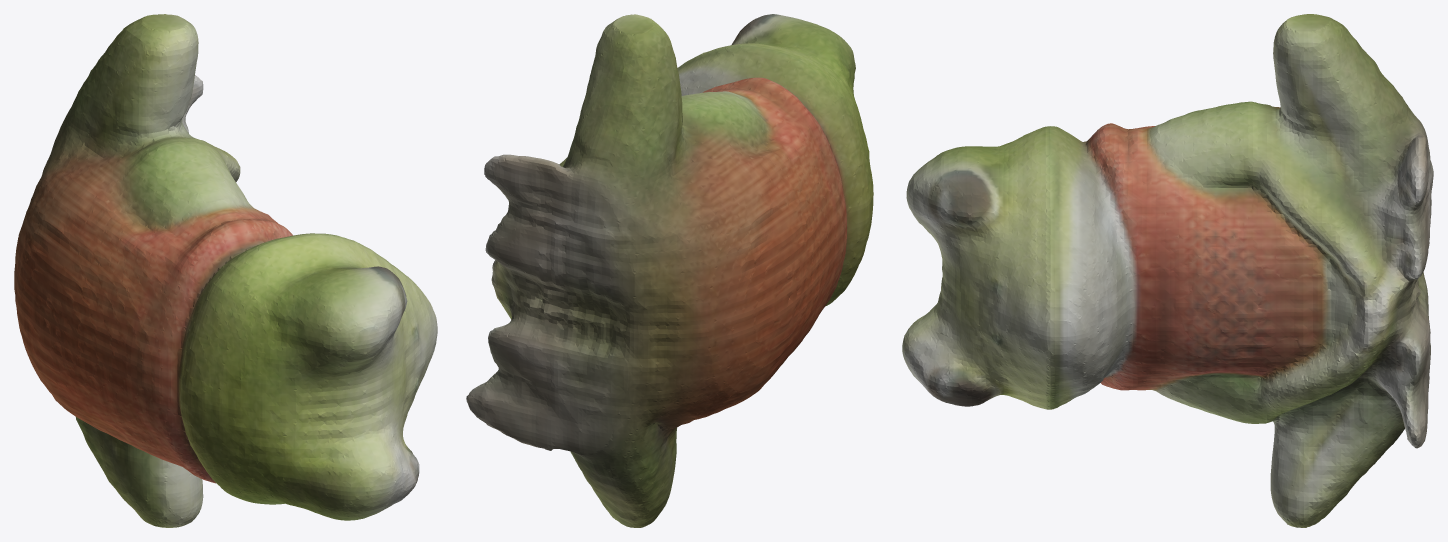
The model's file is frog_sweathe.glb.
The picture shows the model from 3 angles, left to right: view 1: azimuth 30°, elevation 25°; view 2: azimuth 150°, elevation 25°; view 3: azimuth 270°, elevation 25°; orthographic projection.
Parts seen in each view (by area): view 1: mesh.obj; view 2: mesh.obj; view 3: mesh.obj.
Part boxes in pixels (x1,y1,x2,y2): mesh.obj: (14, 14, 437, 527); mesh.obj: (466, 14, 873, 527); mesh.obj: (902, 14, 1433, 527).
Size of the model in its own units: 0.5744 by 0.9828 by 0.9462.
